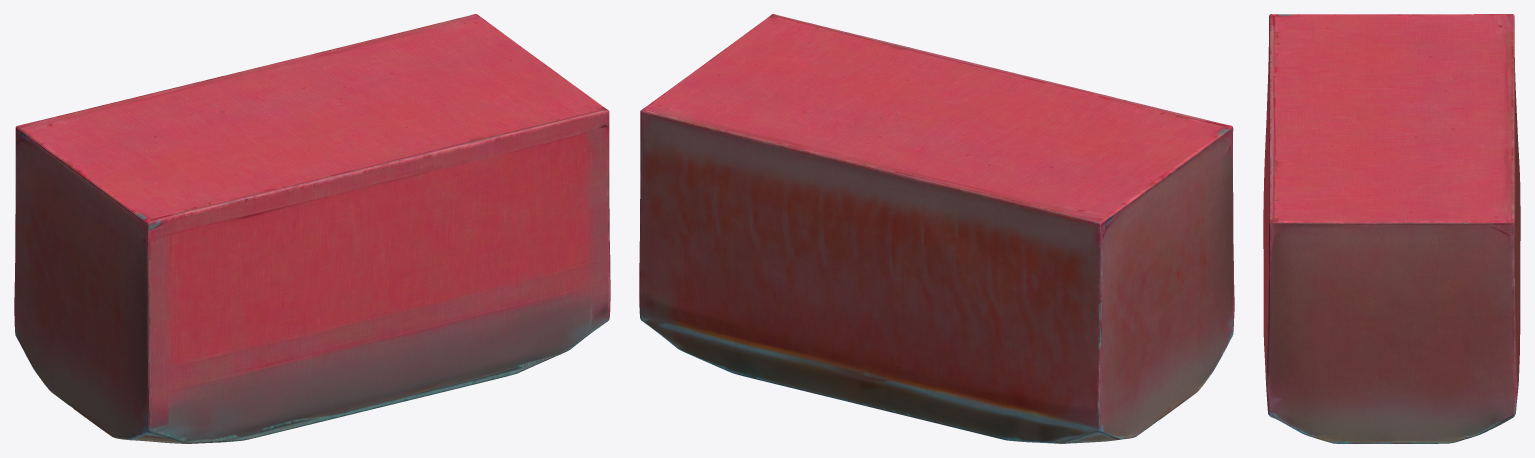
Rendered from image_0000_segmented.glb.
3 renders of one model, left to right at view 1: azimuth 30°, elevation 25°; view 2: azimuth 150°, elevation 25°; view 3: azimuth 270°, elevation 25°, orthographic. The views are drawn at different scales.
Visible parts, largest first — view 1: tmpz3juvvda.ply; view 2: tmpz3juvvda.ply; view 3: tmpz3juvvda.ply.
Boxes of the visible parts, x1,y1,x2,y2 form: tmpz3juvvda.ply: (14,14,610,443); tmpz3juvvda.ply: (639,14,1234,443); tmpz3juvvda.ply: (1263,14,1520,443).
Bounding box in the file's own units: 2 × 0.9964 × 1.04.
1 material, 1 textured.
